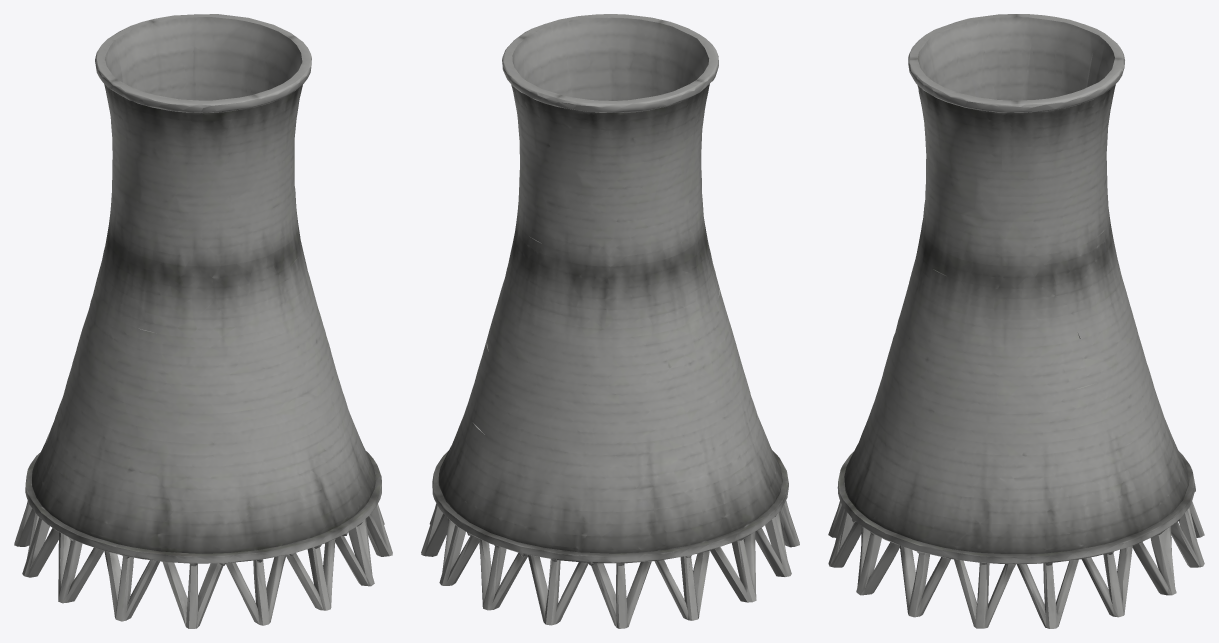
Rendered from cooling_tower.glb.
The picture shows the model from 3 angles, left to right: view 1: azimuth 30°, elevation 25°; view 2: azimuth 150°, elevation 25°; view 3: azimuth 270°, elevation 25°; orthographic projection.
Parts seen in each view (by area): view 1: main; view 2: main; view 3: main.
Boxes of the visible parts, x1,y1,x2,y2 form: main: (14,14,392,628); main: (421,14,799,628); main: (828,14,1204,628).
Size of the model in its own units: 10.9 by 15.7 by 10.91.
1 material, 1 textured.
